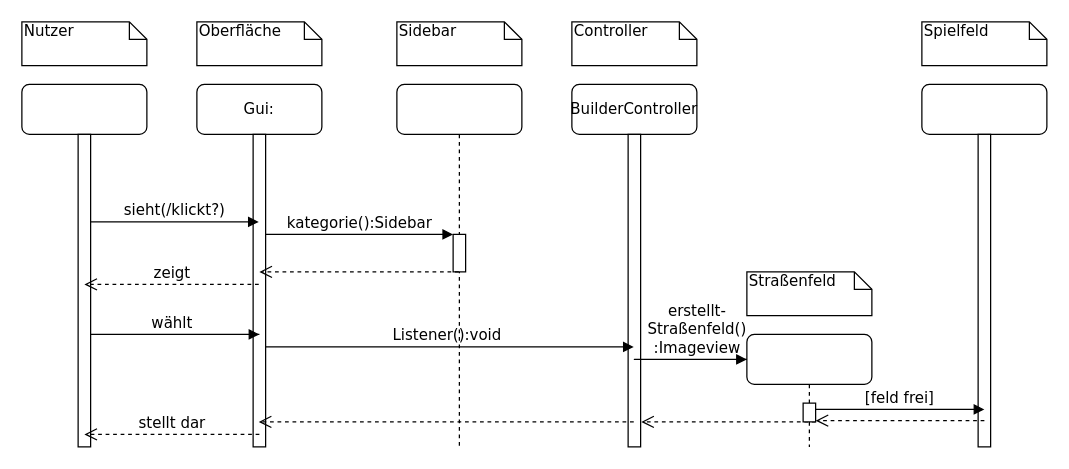
Some shapes in this 1069 by 469 pixel diagram are drawn without their labels. The shapes that lost their labels are listed below. From the top down, each one's box as (x1, y1, x2, y2) in pixels, then its label:
(21, 83, 147, 447): Mensch
(396, 83, 522, 447): Kategorie
(921, 83, 1047, 447): Editor
(746, 333, 872, 447): Tile
